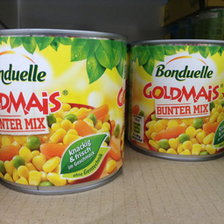corn: (1, 29, 129, 195), (127, 40, 224, 161)
